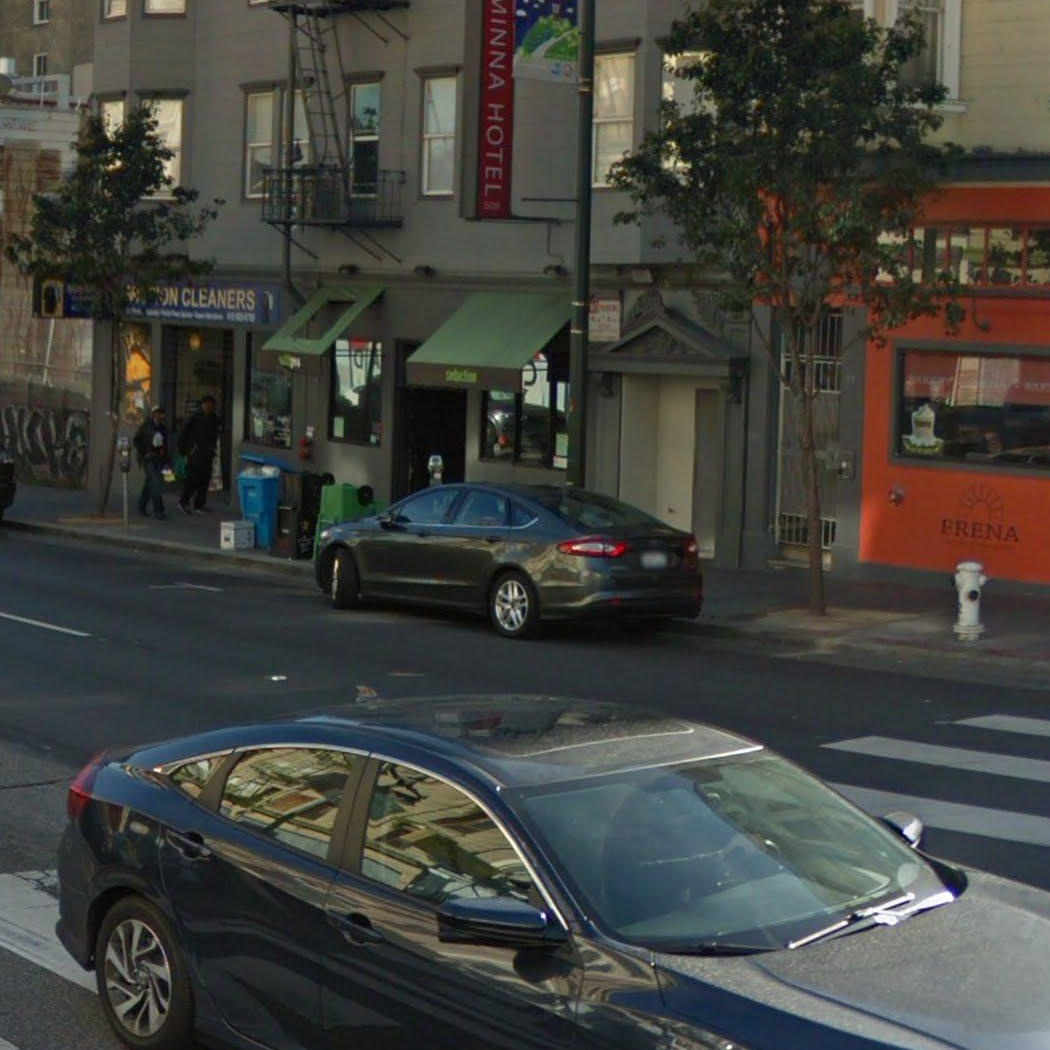No Parking: (585, 296, 622, 345)
